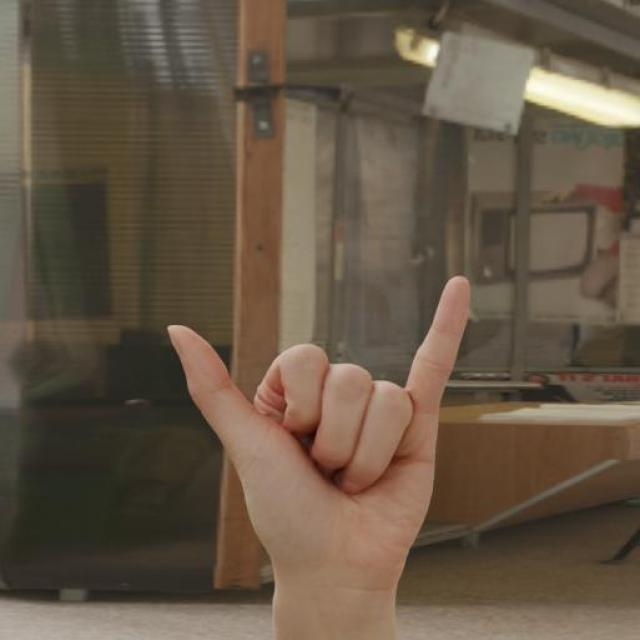Y: (162, 272, 476, 596)
